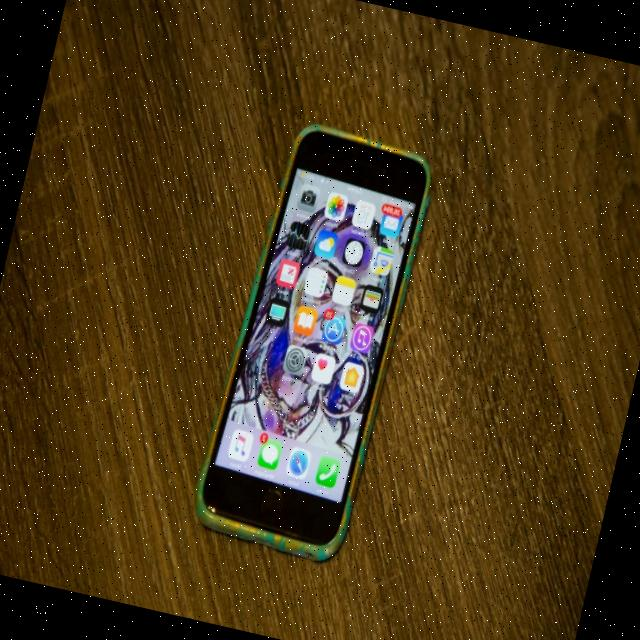Phone: (184, 110, 438, 568)
